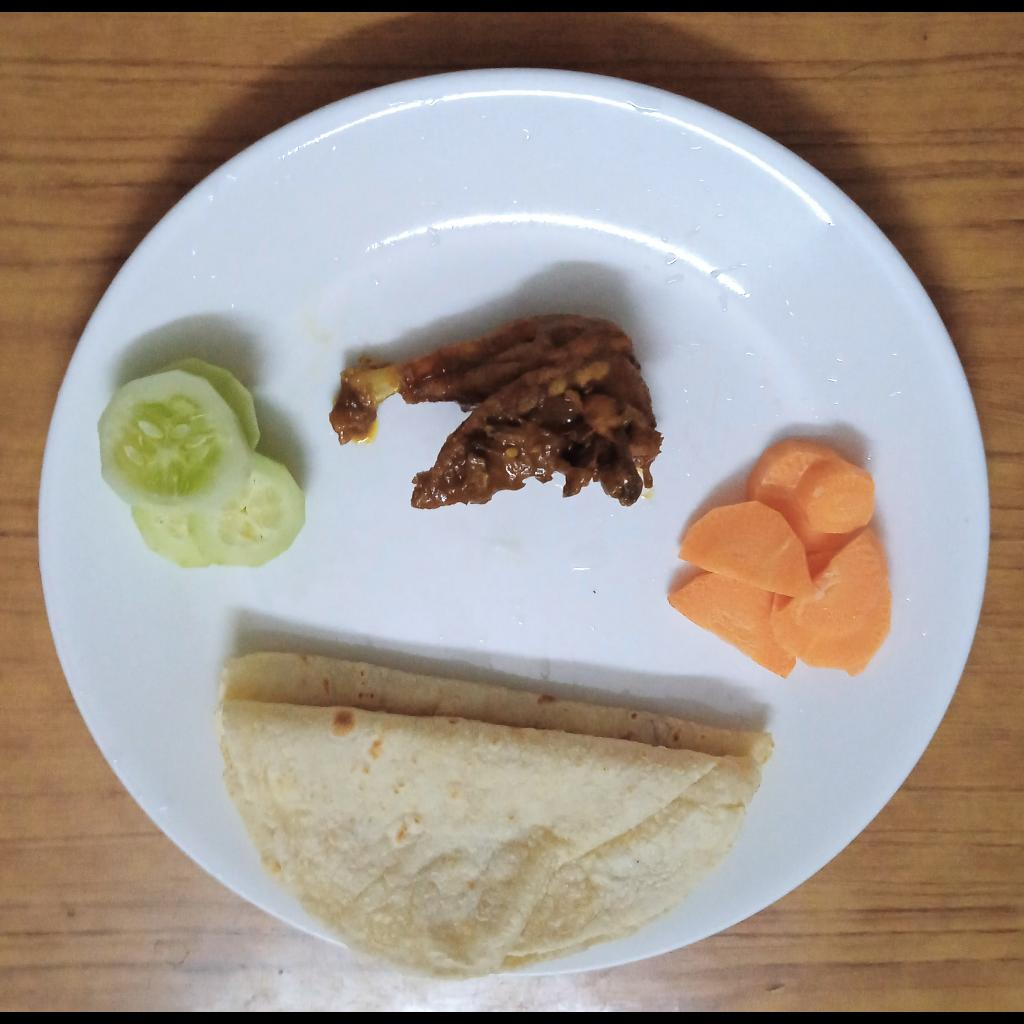carrot: (662, 439, 894, 682)
chicken: (328, 312, 666, 510)
cucumber: (93, 356, 309, 573)
ruti: (220, 652, 771, 977)
